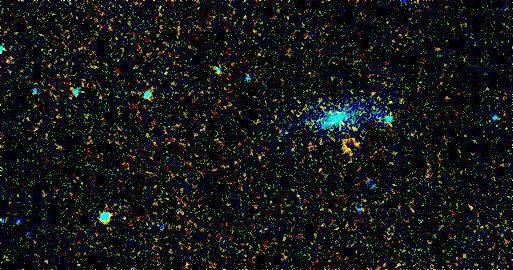star: (339, 136, 369, 166)
